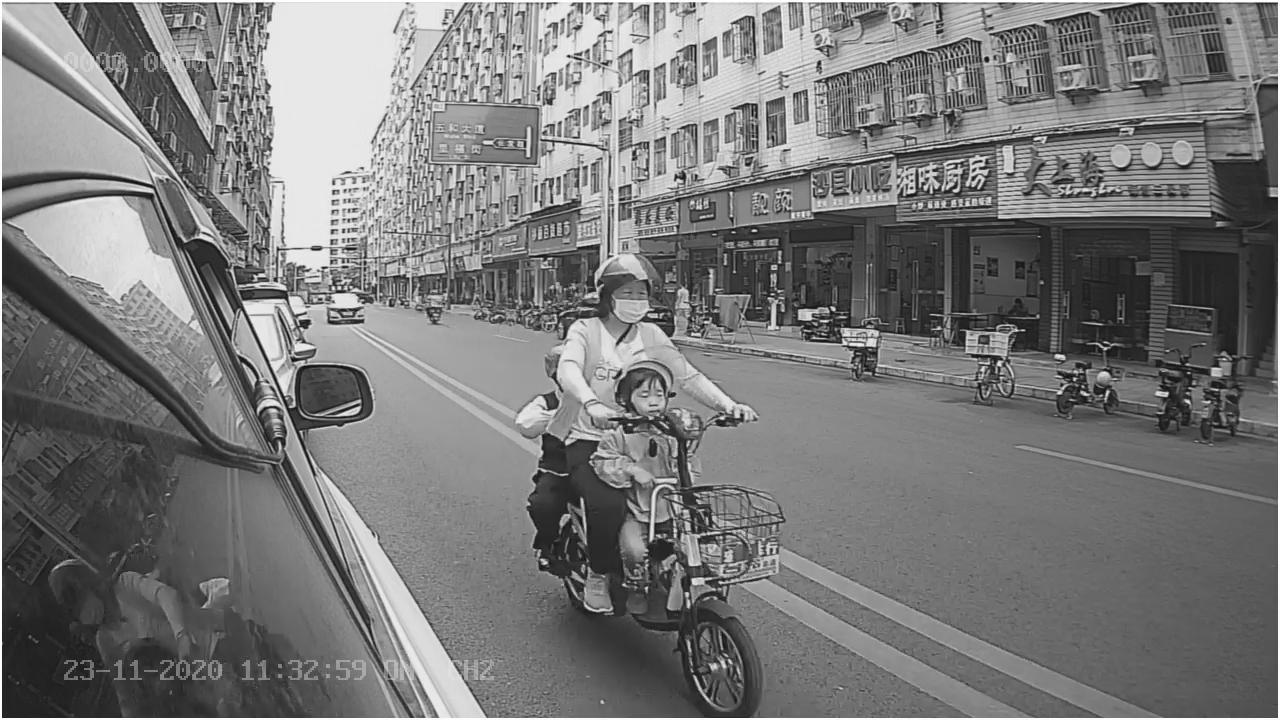person: (557, 253, 715, 416)
